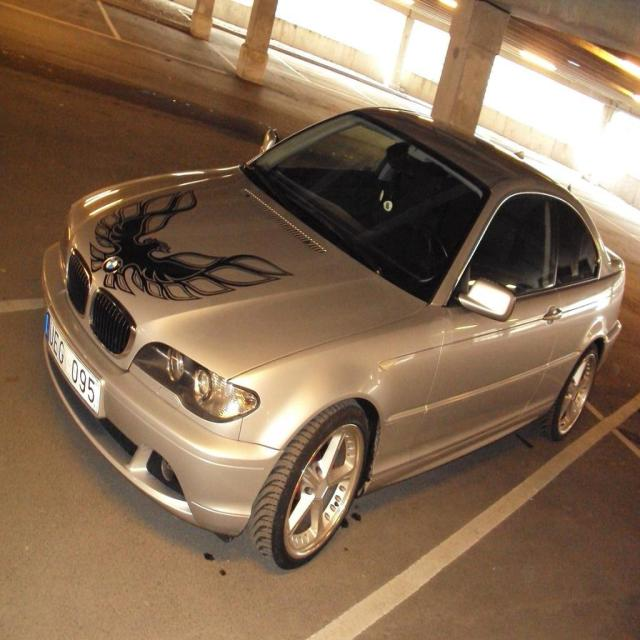car: (42, 101, 630, 573)
